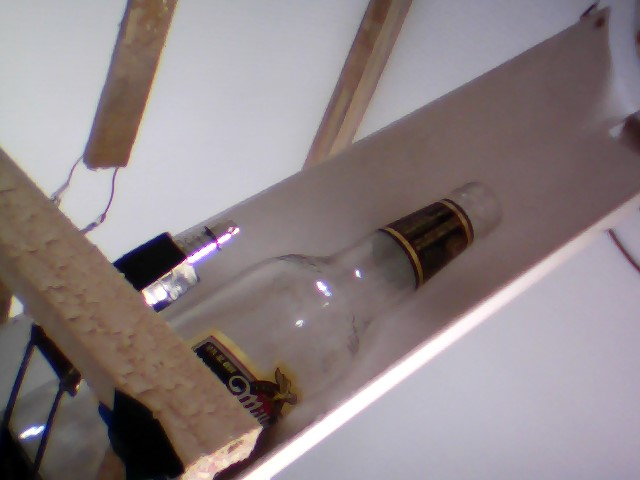vidrio: (175, 165, 513, 444)
